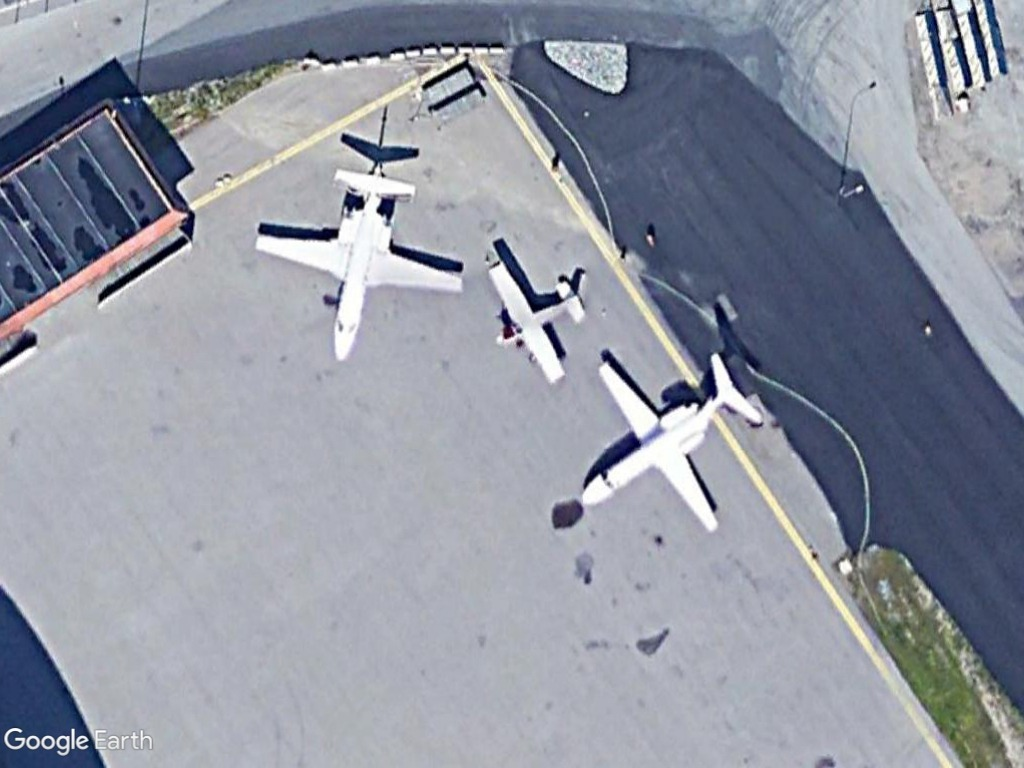chartered: (255, 169, 470, 366), (573, 345, 777, 543)
trainer: (480, 256, 592, 391)
